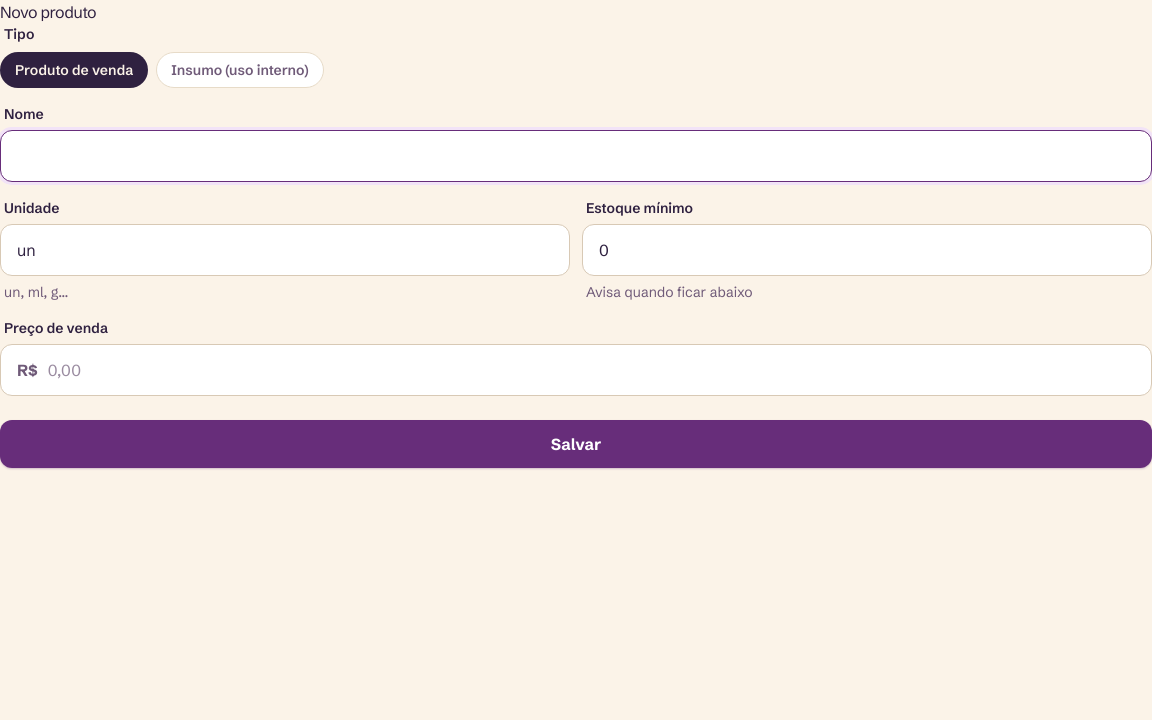
it: ProductSheet: novo › pede nome e, para venda, o preço
Click the button "Salvar".
click(576, 444)  # box [0,420,1151,468]
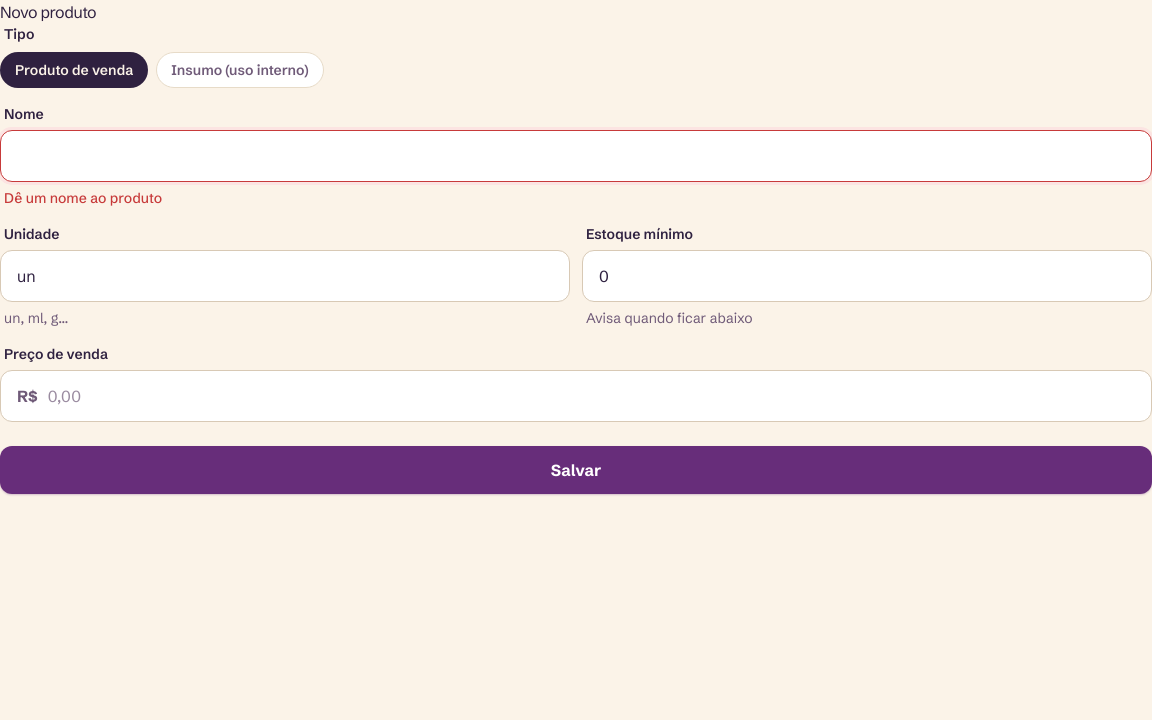
Check: the message reads "Dê um nome ao produto", box [4,189,162,207]
Type "Pomada" into the field labelled "Nome".
click(576, 156); type("Pomada")  # box [17,131,1135,181]
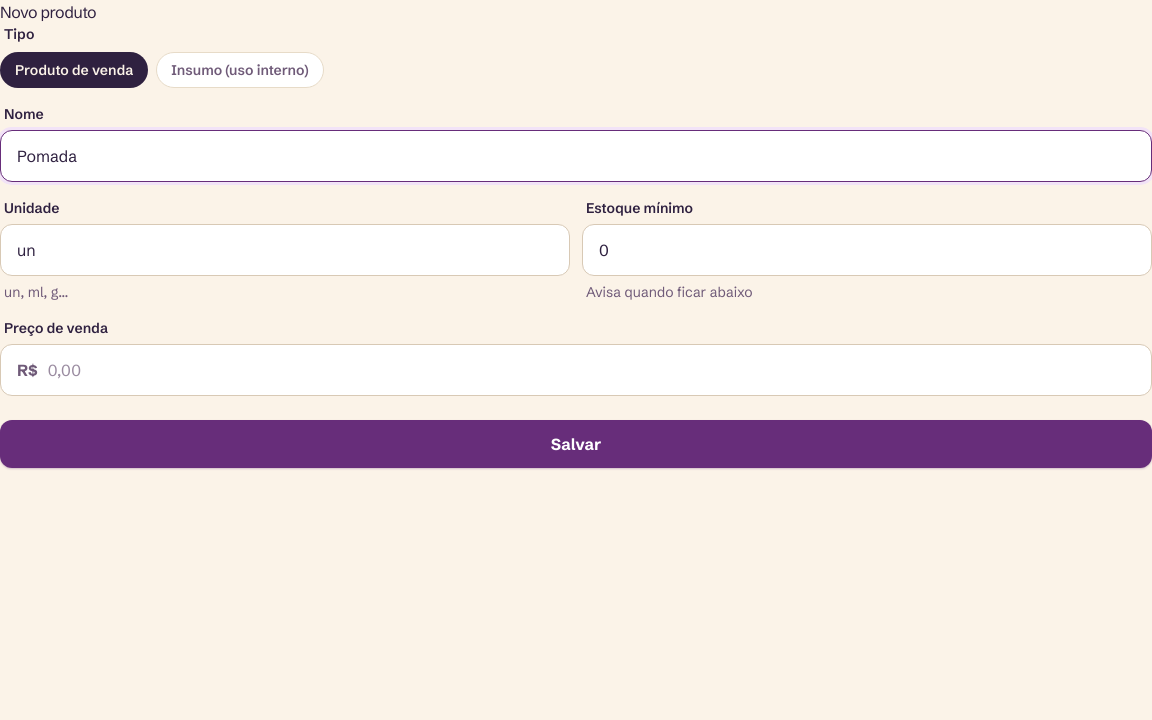
Check: the message "Dê um nome ao produto" is gone
Click the button "Salvar".
click(576, 444)  # box [0,420,1151,468]
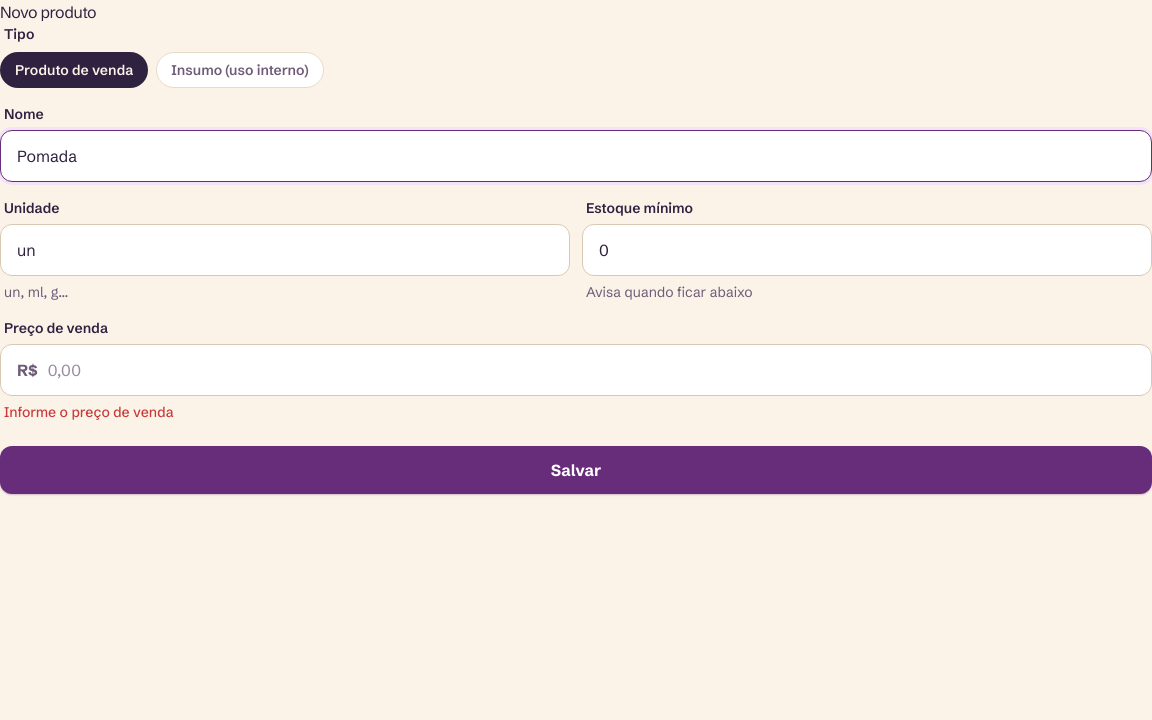
Check: the message reads "Informe o preço de venda", box [4,403,174,421]
Type "3000" into the field labelled "Preço de venda".
click(591, 370); type("3000")  # box [48,345,1135,395]
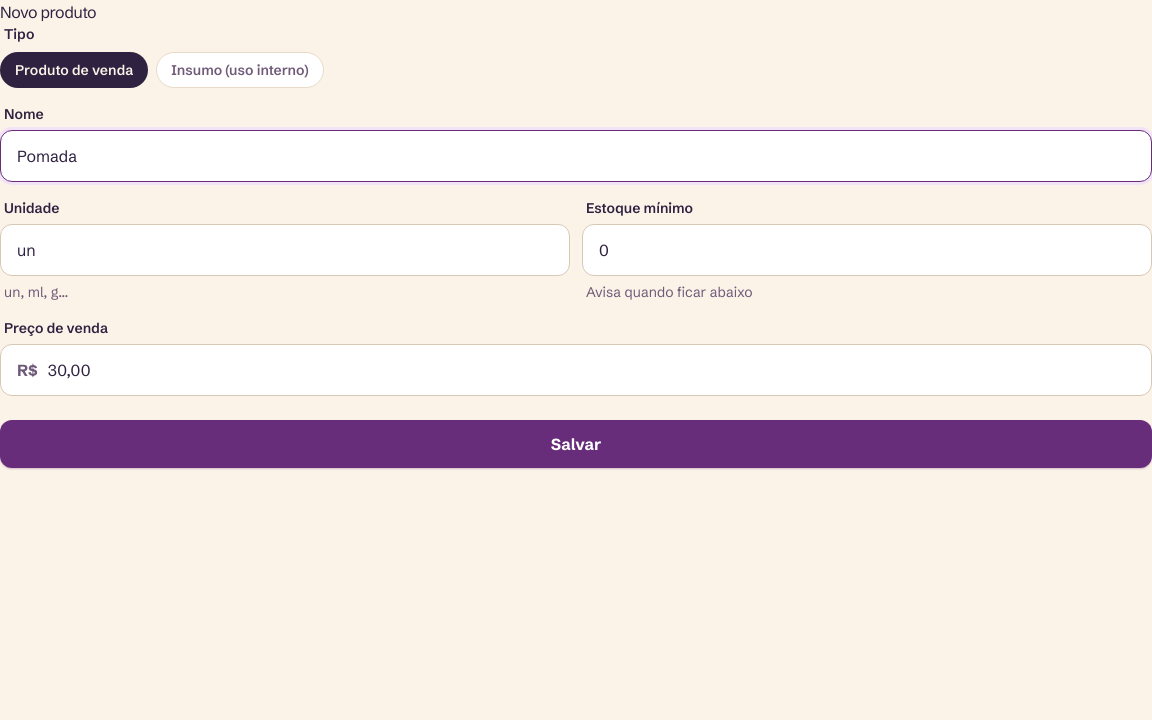
Check: the message "Informe o preço de venda" is gone
